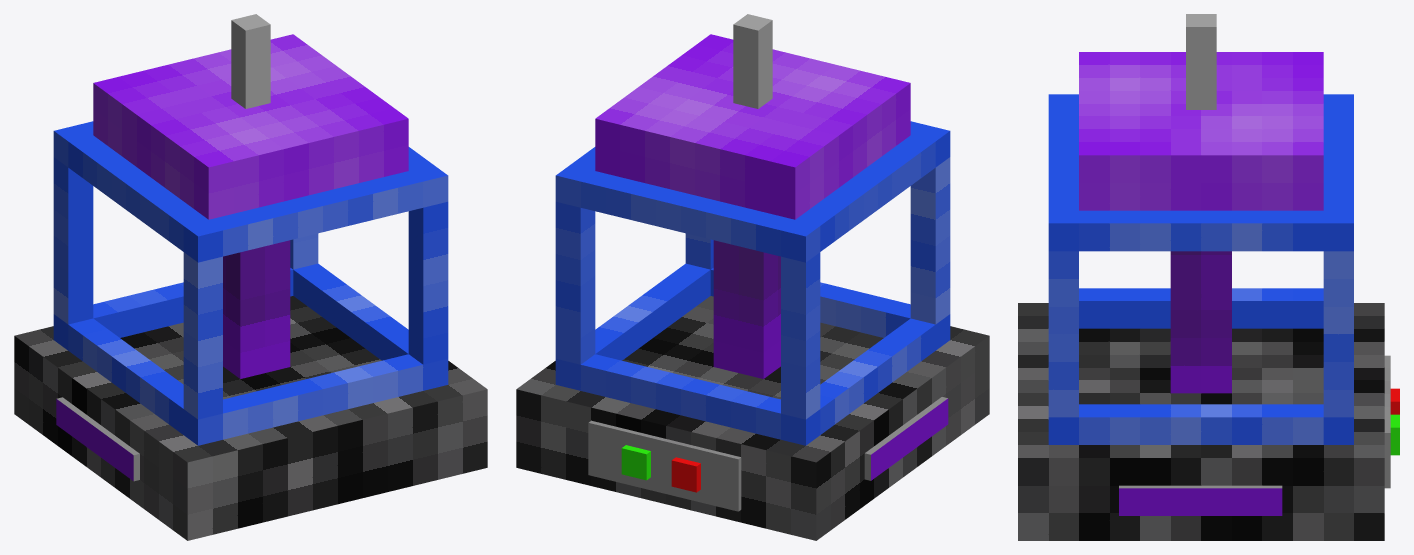
File: gravity_field_generator_model.obj
3 renders of one model, left to right at view 1: azimuth 30°, elevation 25°; view 2: azimuth 150°, elevation 25°; view 3: azimuth 270°, elevation 25°, orthographic. The views are drawn at different scales.
Visible parts, largest first — view 1: cube_1, cube_15, cube_12, cube_3, cube_2, cube_10, cube_7, cube_8, cube_13, cube_5, cube_6, cube_4 (+4 smaller); view 2: cube_1, cube_15, cube_14, cube_4, cube_2, cube_17, cube_9, cube_8, cube_7, cube_13, cube_5, cube_6 (+7 smaller); view 3: cube_1, cube_15, cube_11, cube_6, cube_2, cube_5, cube_9, cube_10, cube_19, cube_12, cube_14, cube_16 (+3 smaller).
Part boxes in pixels (x1,y1,x2,y2): cube_1: [14, 296, 487, 540]; cube_15: [93, 34, 408, 219]; cube_12: [183, 165, 448, 262]; cube_3: [183, 354, 448, 445]; cube_2: [223, 240, 290, 378]; cube_10: [408, 201, 448, 364]; cube_7: [183, 252, 222, 419]; cube_8: [53, 157, 93, 324]; cube_13: [68, 135, 208, 251]; cube_5: [68, 318, 183, 434]; cube_6: [293, 263, 408, 360]; cube_4: [53, 268, 293, 350]; cube_1: [516, 296, 989, 540]; cube_15: [595, 34, 910, 219]; cube_14: [555, 165, 820, 262]; cube_4: [555, 354, 820, 445]; cube_2: [713, 240, 780, 378]; cube_17: [588, 420, 741, 511]; cube_9: [555, 201, 595, 364]; cube_8: [781, 252, 820, 419]; cube_7: [910, 157, 950, 324]; cube_13: [795, 135, 935, 251]; cube_5: [820, 318, 935, 434]; cube_6: [595, 263, 710, 360]; cube_1: [1018, 303, 1384, 540]; cube_15: [1079, 52, 1323, 210]; cube_11: [1079, 210, 1323, 251]; cube_6: [1079, 404, 1323, 444]; cube_2: [1170, 251, 1231, 393]; cube_5: [1079, 288, 1323, 328]; cube_9: [1323, 251, 1353, 417]; cube_10: [1048, 251, 1078, 417]; cube_19: [1119, 485, 1282, 515]; cube_12: [1048, 94, 1078, 251]; cube_14: [1323, 94, 1353, 251]; cube_16: [1186, 14, 1216, 109].
Size of the model in its own units: 0.7781 by 1 by 0.7812.
